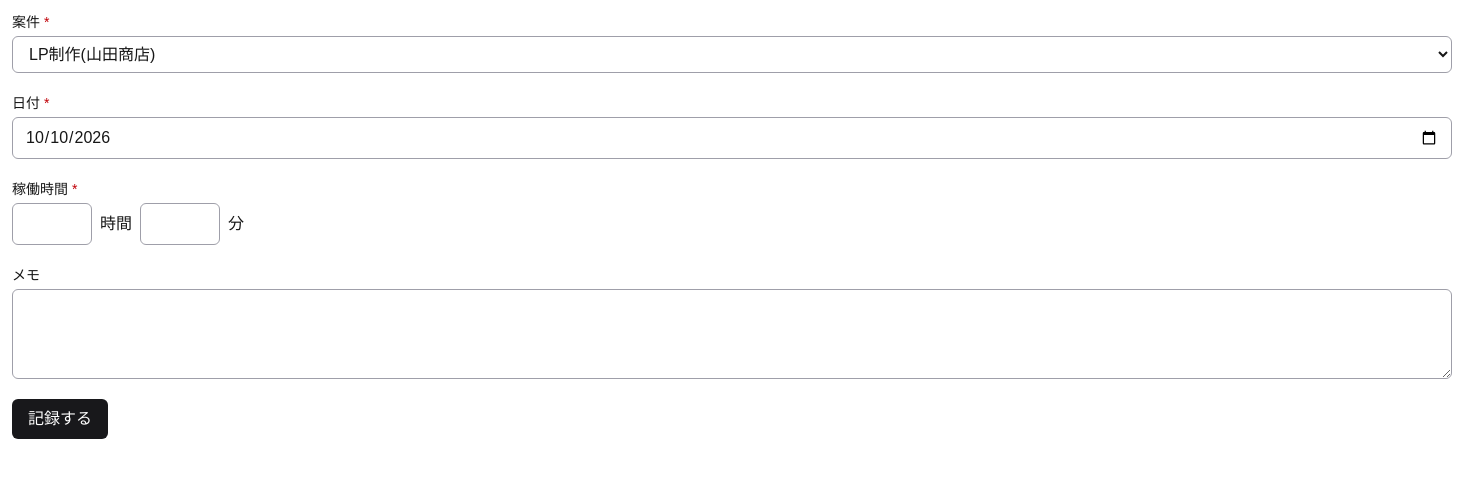
Test: TimeEntryForm の画面の検証 › 分の欄を直すと、稼働時間のエラーが消える
This screenshot has width=1464, height=480.
Click the button "記録する". click: [60, 419]
box: [12,399,108,439]
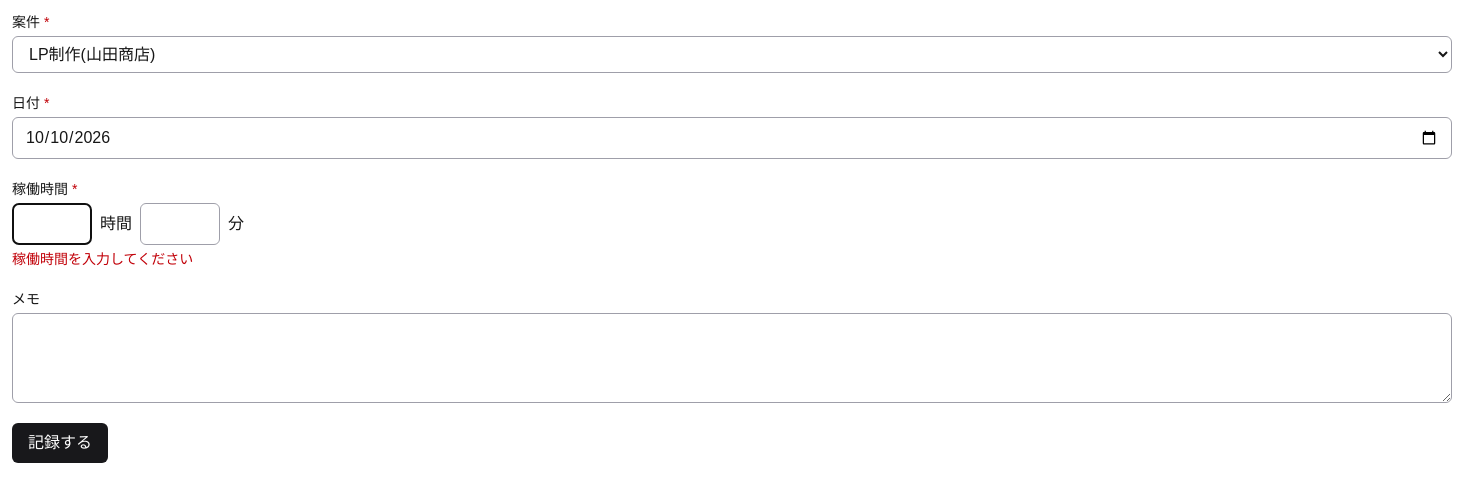
Now the text "稼働時間を入力してください" is shown, box [12,251,193,267]
Type "30" into the field labelled "分". click: [180, 224]
box: [140,203,220,245]
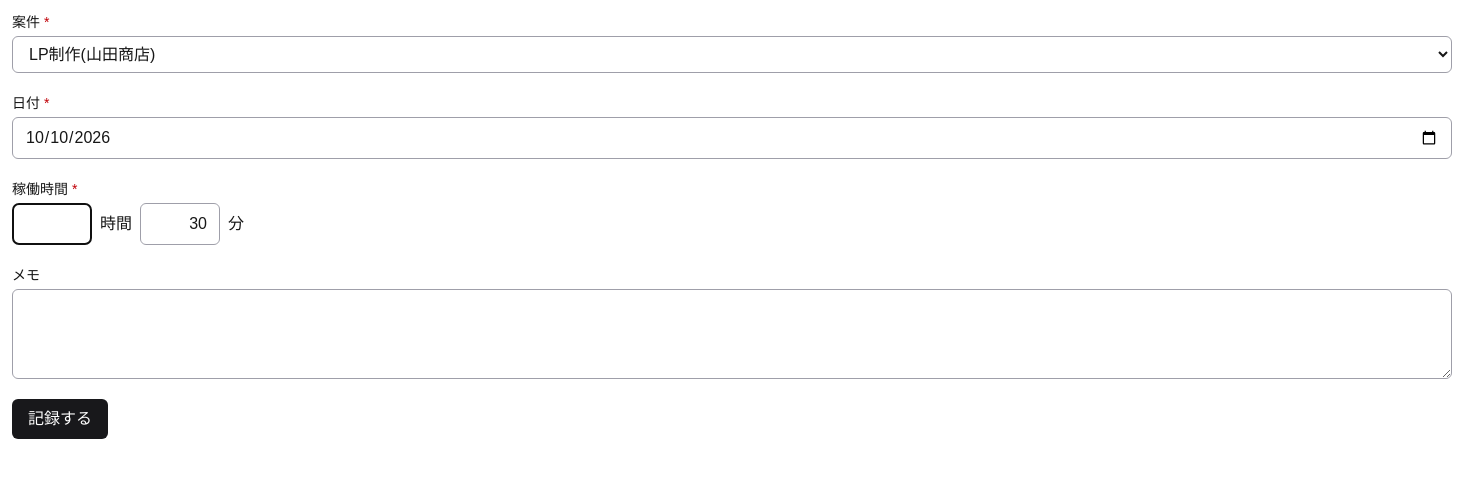
Now the text "稼働時間を入力してください" is gone
